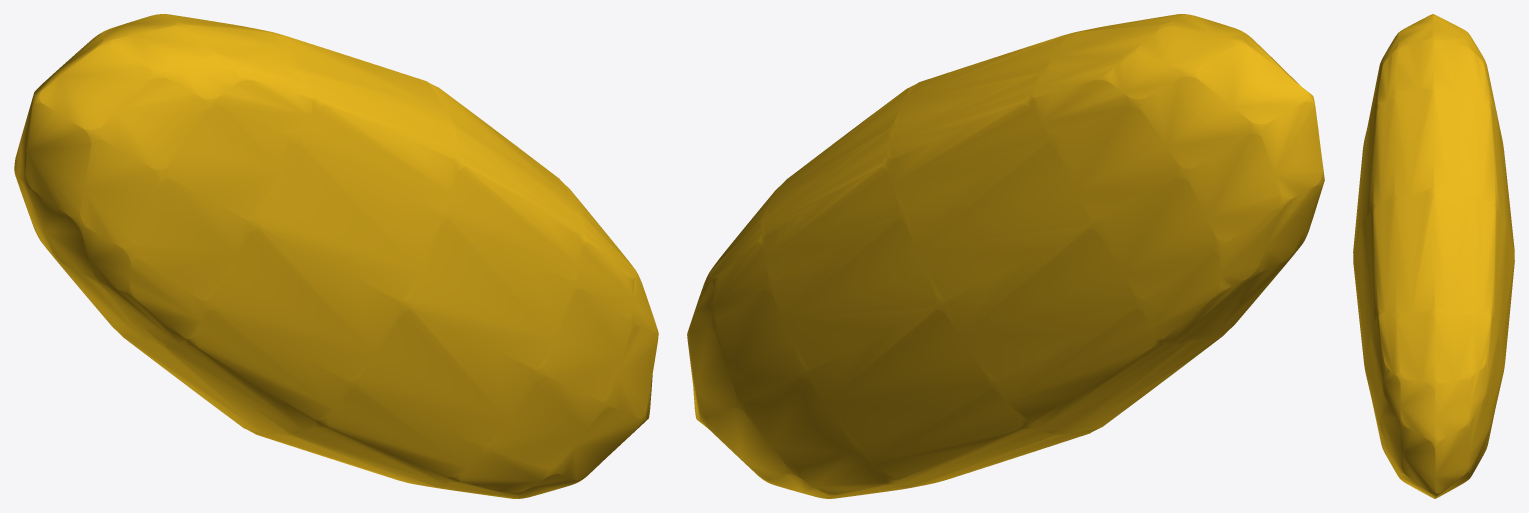
The model's file is MagicalSeed.fbx.
The picture shows the model from 3 angles, left to right: view 1: azimuth 30°, elevation 25°; view 2: azimuth 150°, elevation 25°; view 3: azimuth 270°, elevation 25°; orthographic projection. The views are drawn at different scales.
Parts seen in each view (by area): view 1: Cube; view 2: Cube; view 3: Cube.
Boxes of the visible parts, <box> form: Cube: <box>14,14,658,498</box>; Cube: <box>687,14,1324,498</box>; Cube: <box>1353,14,1514,498</box>.
Size of the model in its own units: 114 by 94.58 by 40.65.
